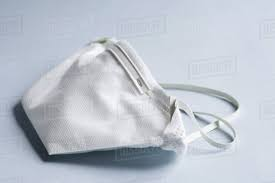flumask: (28, 47, 176, 156)
